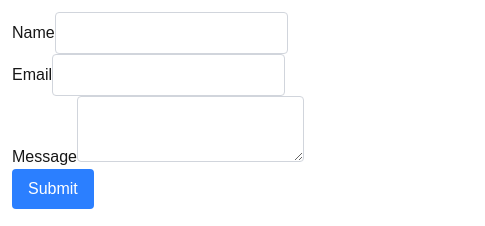
it: ContactForm › should display error when email loses focus and value is invalid
Step 1. Type "whatever" into the field labelled "Email" → (168, 75), box left=52, top=54, right=285, bottom=96
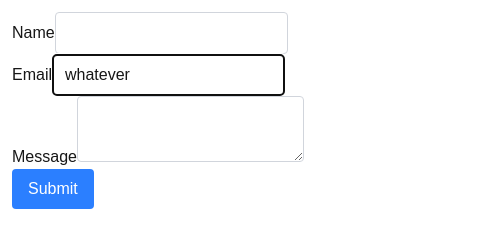
Step 2. Press Tab
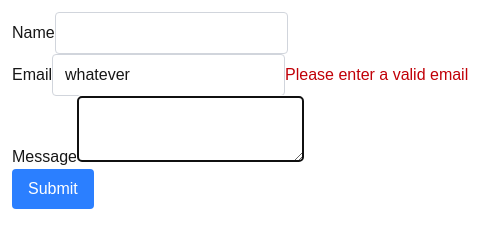
Expected: the text "Please enter a valid email" is shown, left=285, top=66, right=468, bottom=83
